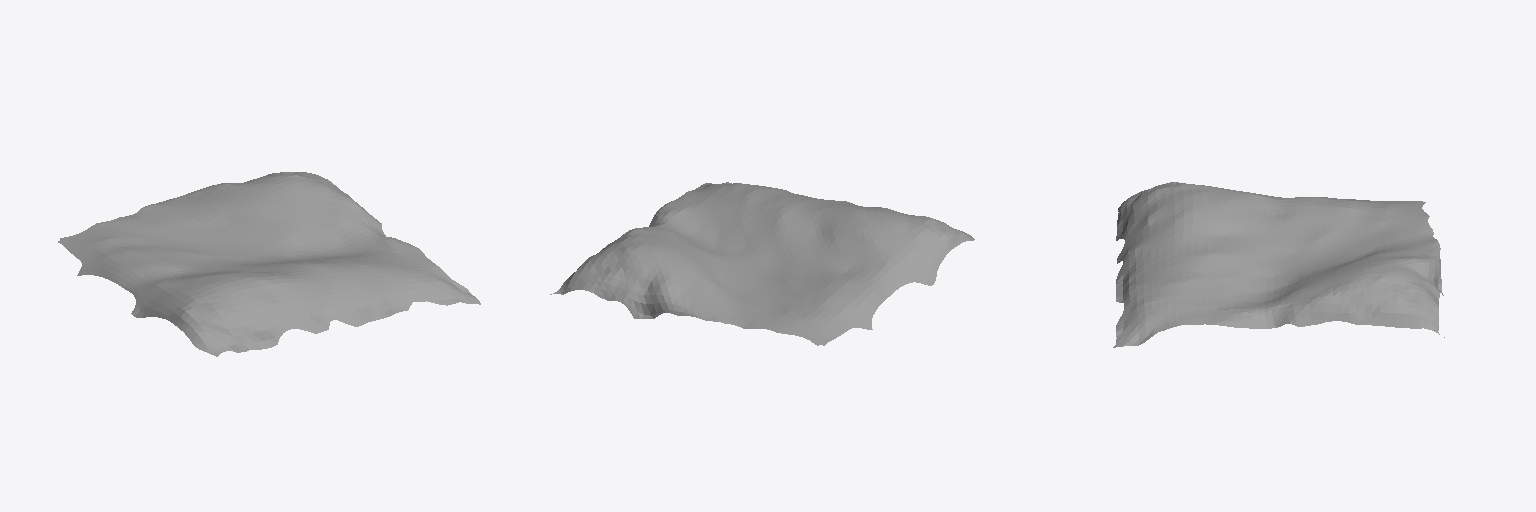
File: hills.obj
The picture shows the model from 3 angles: view 1: azimuth 30°, elevation 25°; view 2: azimuth 150°, elevation 25°; view 3: azimuth 270°, elevation 25°; orthographic projection.
Visible parts, largest first — view 1: Plane; view 2: Plane; view 3: Plane.
Part boxes in pixels (x1,y1,x2,y2): Plane: (58,172,480,356); Plane: (550,182,974,345); Plane: (1113,182,1444,347).
Size of the model in its own units: 20.05 by 3.01 by 20.19.